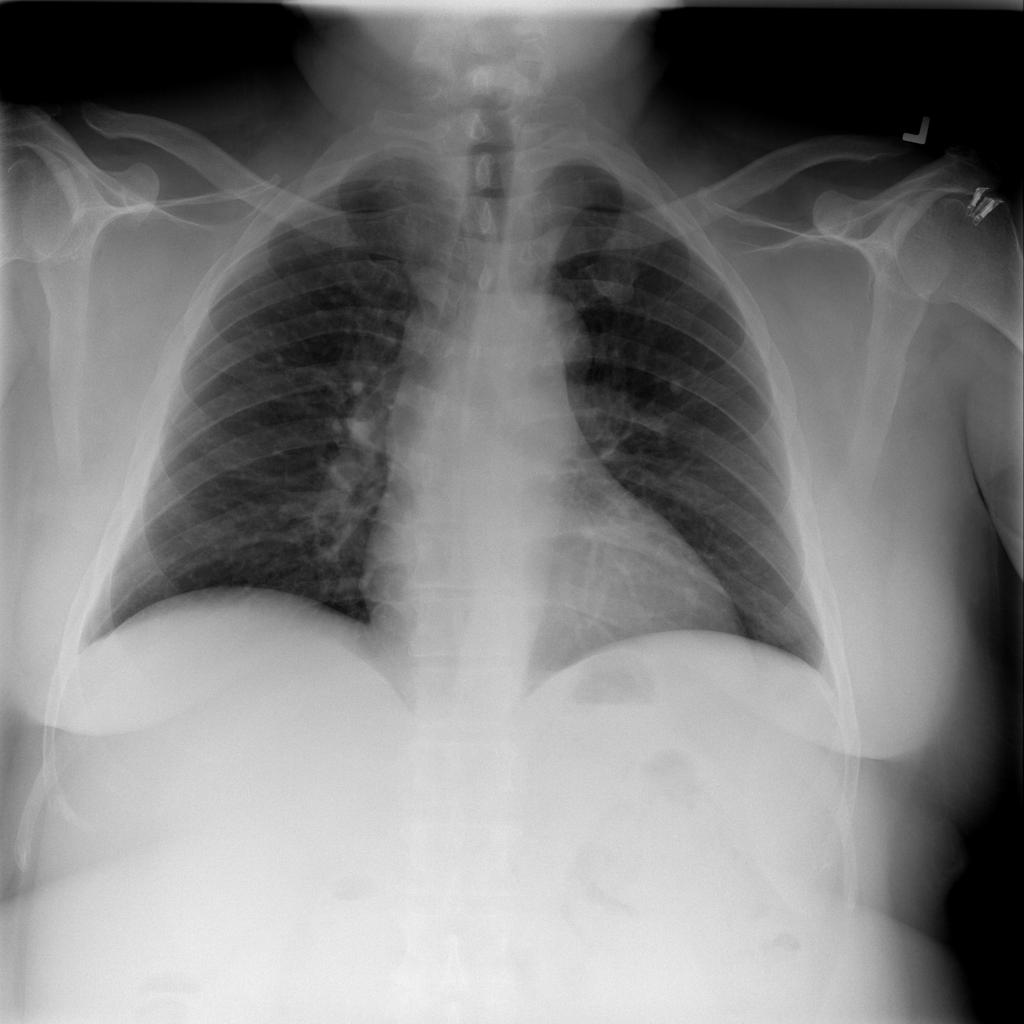nodule: (659, 363, 696, 402)
